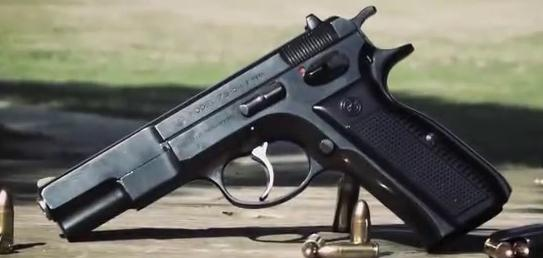gun: (1, 1, 543, 258)
